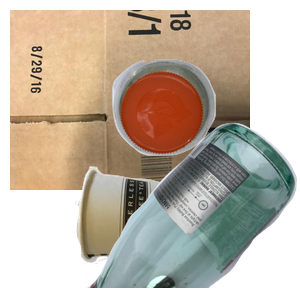cardboard: (10, 10, 250, 190)
glass: (86, 120, 300, 300)
plastic: (110, 57, 300, 205)
trash: (73, 164, 278, 300)
